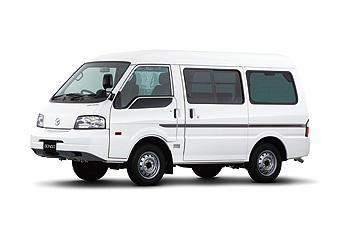Van: (31, 49, 311, 188)
